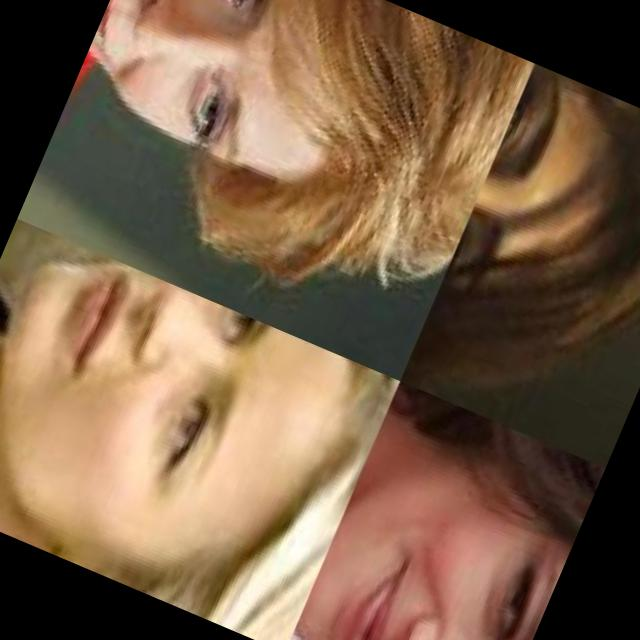bareface: (0, 244, 387, 640)
